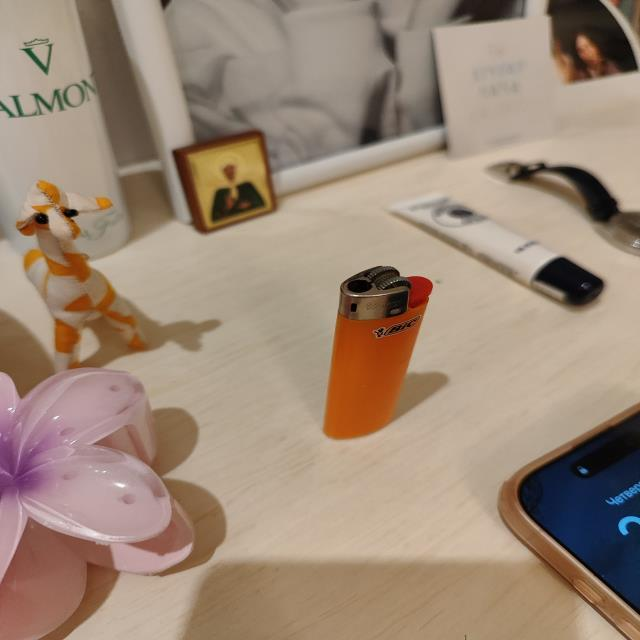lighter: (323, 266, 431, 439)
